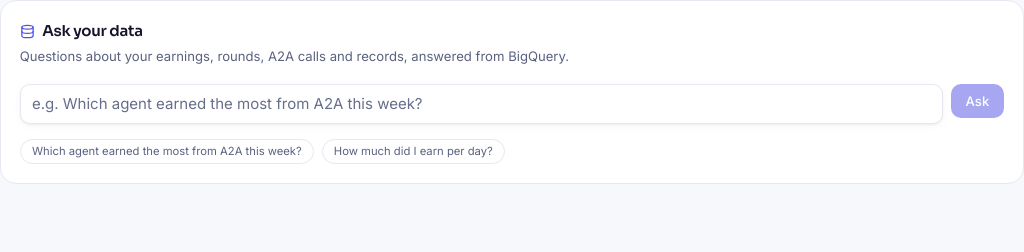
Scenario: AskDataCard › shows the error with its trace id when asking fails
In the text box named "Your question": (482,104) [20,84,943,124], type "How much did I earn?"
Then press Enter
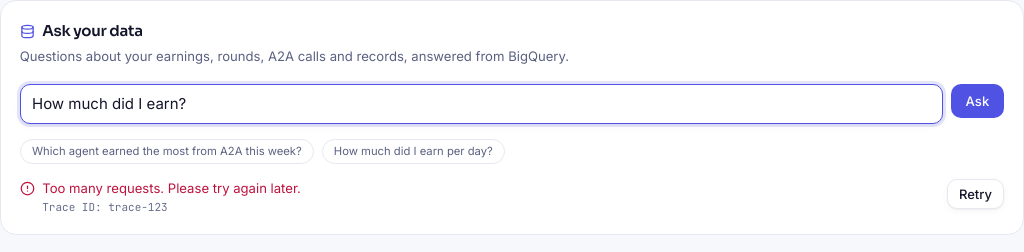
Expected: the text "Too many requests. Please try again later." is shown, [42,180,301,196]
Expected: the text with test id "trace-id" shows "trace-123", [108,200,168,214]
